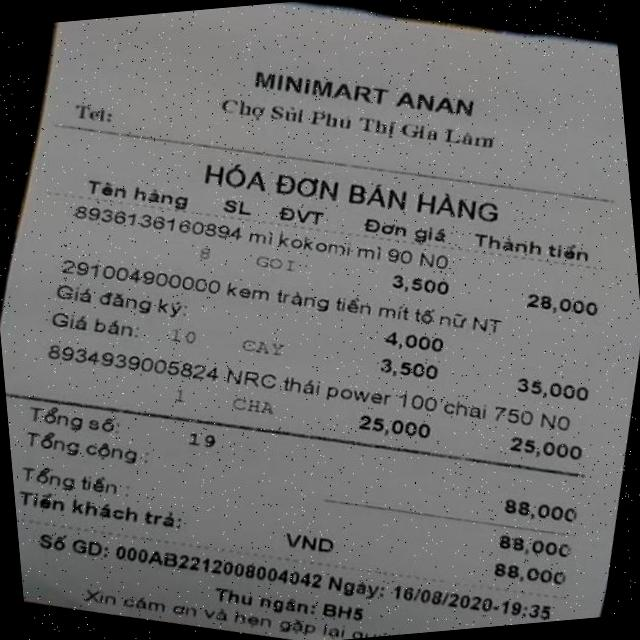Date: (385, 568, 497, 626)
Store_Name: (213, 12, 508, 152)
amount_number: (497, 488, 582, 534)
label_total: (20, 414, 147, 479)
